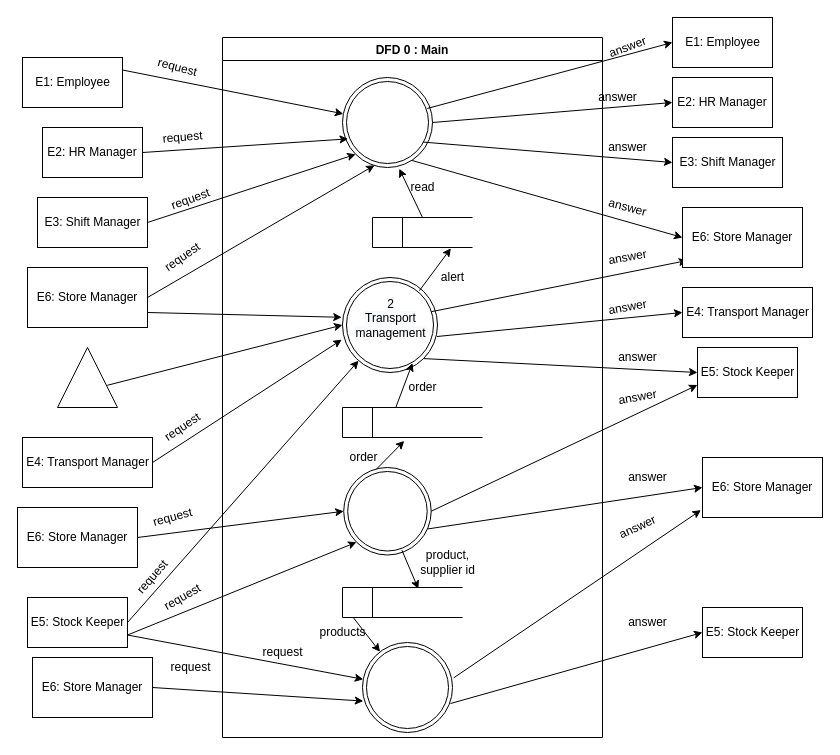
Image size: 840x755. Some labels were removed from this diagram. Each missing label, with the centre of its shape:
"1 Employees management" belongs at point (387, 122).
"3 Suppliers management" belongs at point (387, 510).
"4 Stock management" belongs at point (407, 687).
"D1 Messages" belongs at point (422, 232).
"D2 OrderFromSupplier" belongs at point (412, 422).
"D3 ProductSupplier" belongs at point (402, 602).
"T1" belongs at point (87, 377).
